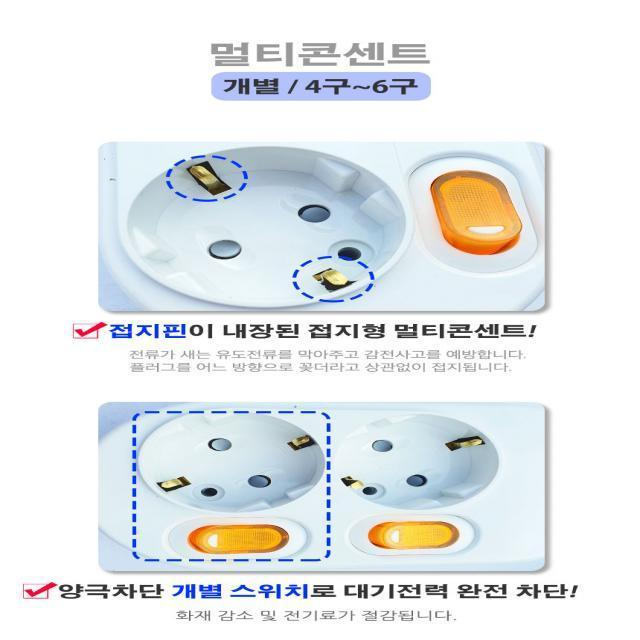typeb: (78, 394, 593, 581), (72, 125, 565, 318)
